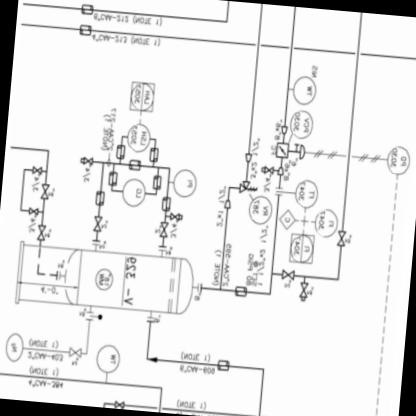LMI: (384, 144, 415, 177), (93, 342, 124, 375), (312, 206, 340, 240), (170, 167, 199, 199), (246, 195, 275, 226), (120, 176, 146, 210), (287, 108, 314, 140), (292, 178, 318, 210), (291, 76, 317, 106), (126, 123, 150, 153)
TAG: (285, 232, 316, 266), (125, 79, 156, 113)
